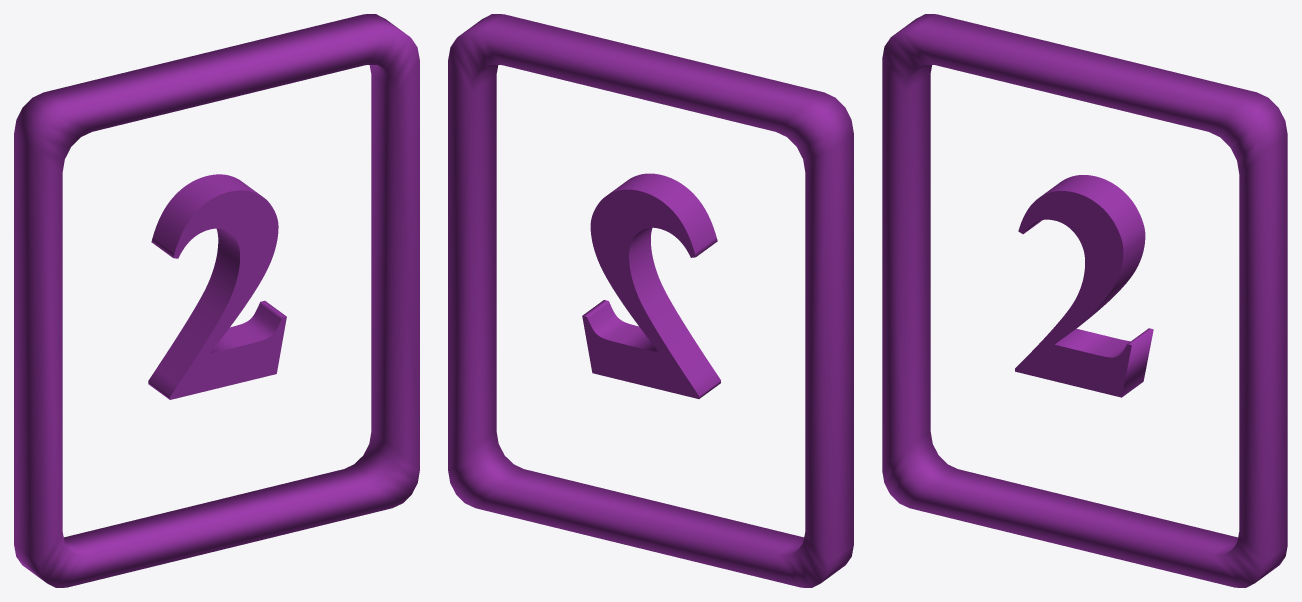
File: Number_2.gltf
3 renders of one model, left to right at view 1: azimuth 30°, elevation 25°; view 2: azimuth 150°, elevation 25°; view 3: azimuth 330°, elevation 25°, orthographic.
Visible parts, largest first — view 1: Numbers.003; view 2: Numbers.003; view 3: Numbers.003.
Part boxes in pixels (x1,y1,x2,y2): Numbers.003: (14, 14, 419, 587); Numbers.003: (448, 14, 853, 587); Numbers.003: (882, 14, 1287, 587).
Size of the model in its own units: 1 by 1.2 by 0.1143.
